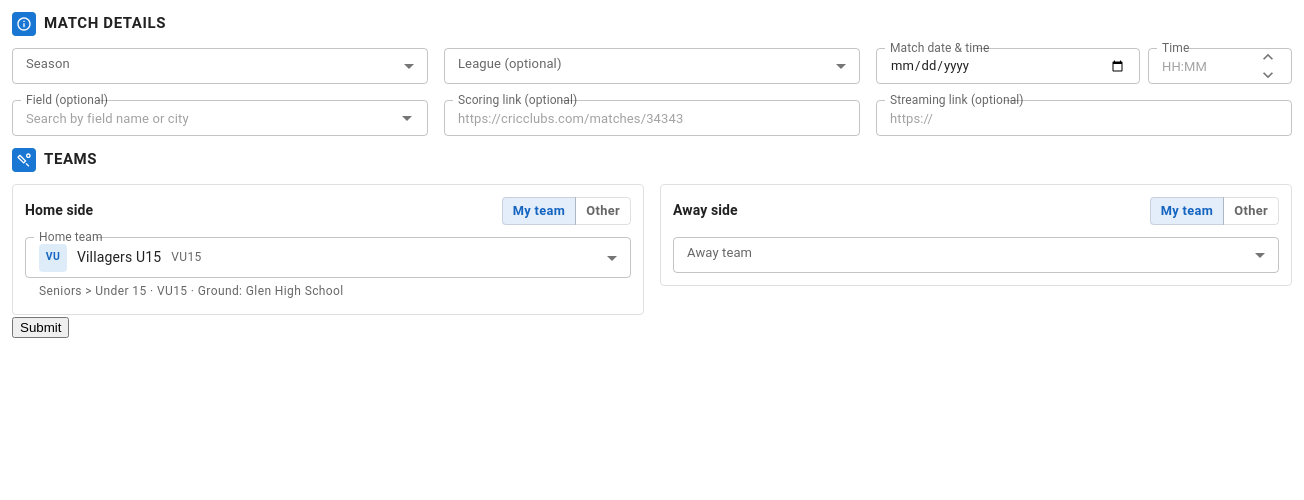
Test: MatchForm › My team picker details › groups the teams by section and shows the chosen team's section, abbreviation and ground under the box
This screenshot has width=1304, height=500.
Expected: the text "Seniors > Under 15 · VU15 · Ground: Glen High School" is shown, [39, 284, 344, 298]
Click the dropdown named "Home team" at (120, 258), box [39, 244, 202, 272]
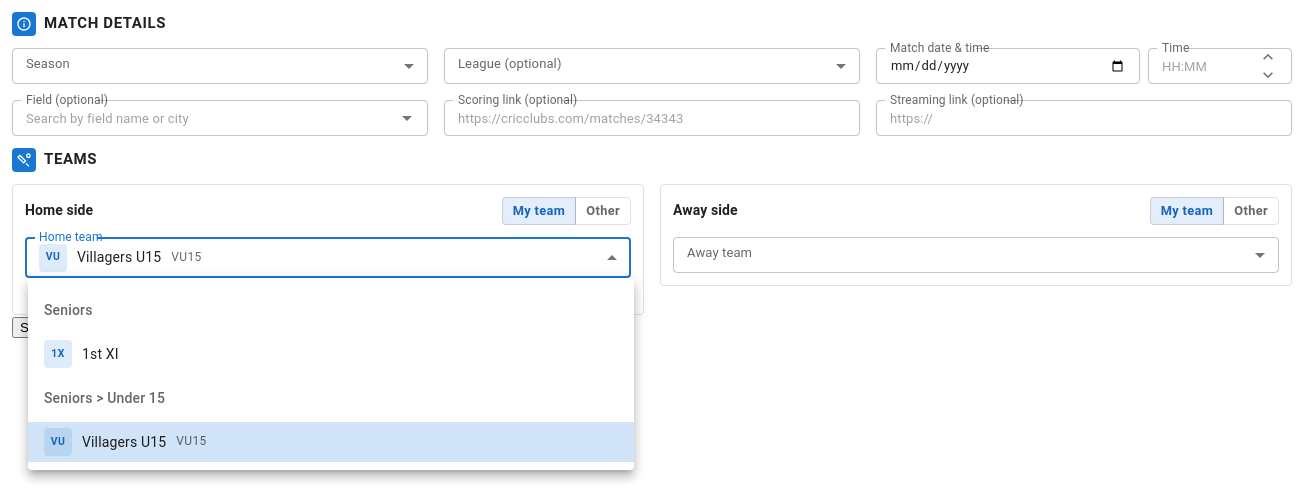
Expected: the option "Seniors" is shown, [28, 286, 634, 334]
Expected: the option "Seniors > Under 15" is shown, [28, 374, 634, 422]
Expected: the option "VU Villagers U15 VU15" is shown, [28, 422, 634, 462]
